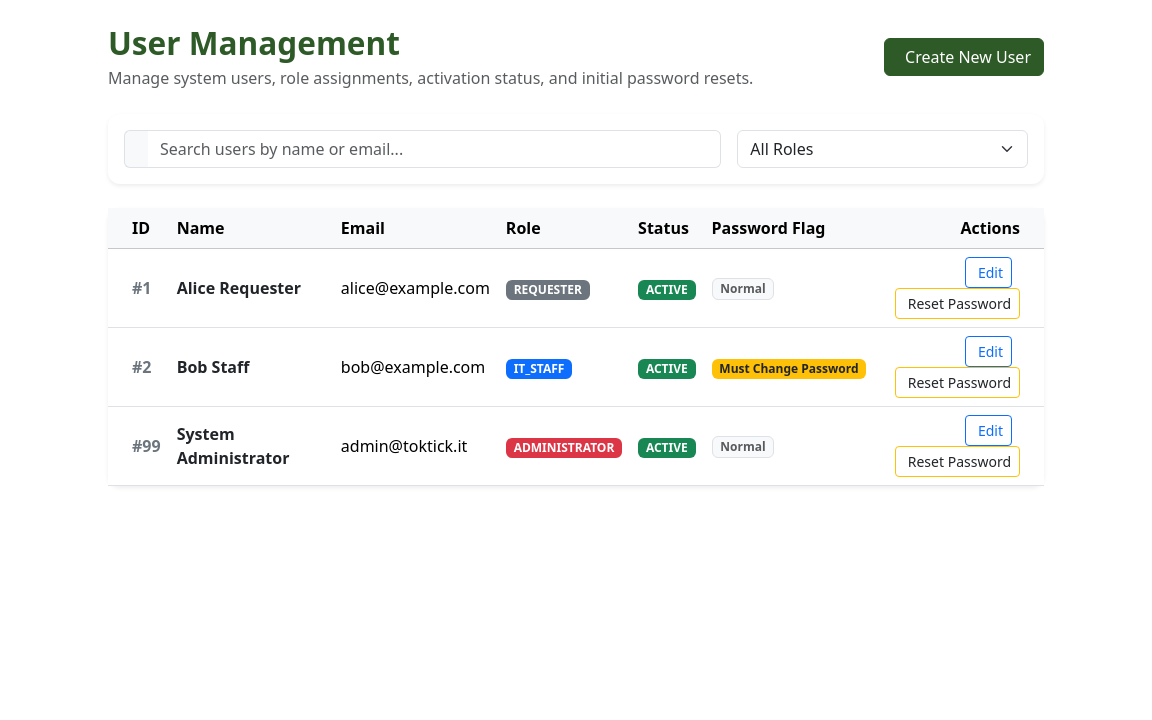
Test: UserManagement Component Suite (UserManagement.test.tsx) › opens Create User modal, submits valid new user payload, and refreshes directory
expect the table with test id "admin-user-table" is shown: met, box [108,208,1044,486]
Click the button with test id "create-user-btn" at (964, 57), box [884,38,1044,76]
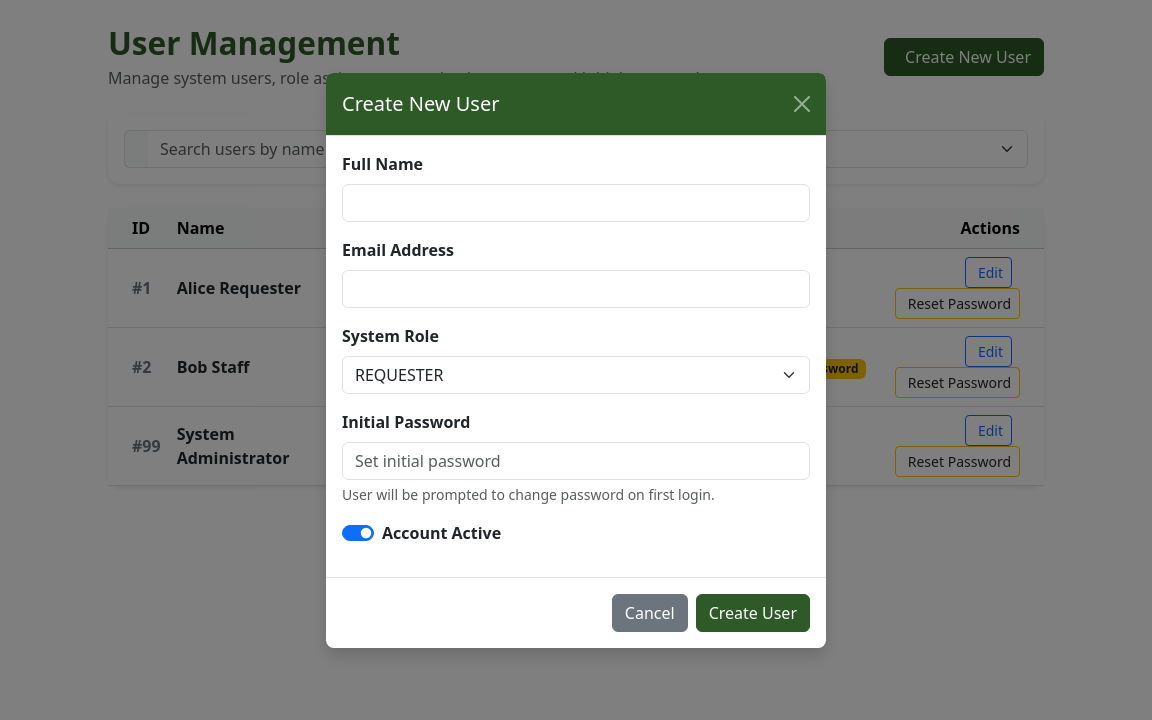
expect the element with test id "create-user-modal" is shown: met
Type "Charlie New" into the field with test id "user-form-name" at (576, 202), box [342,184,810,222]
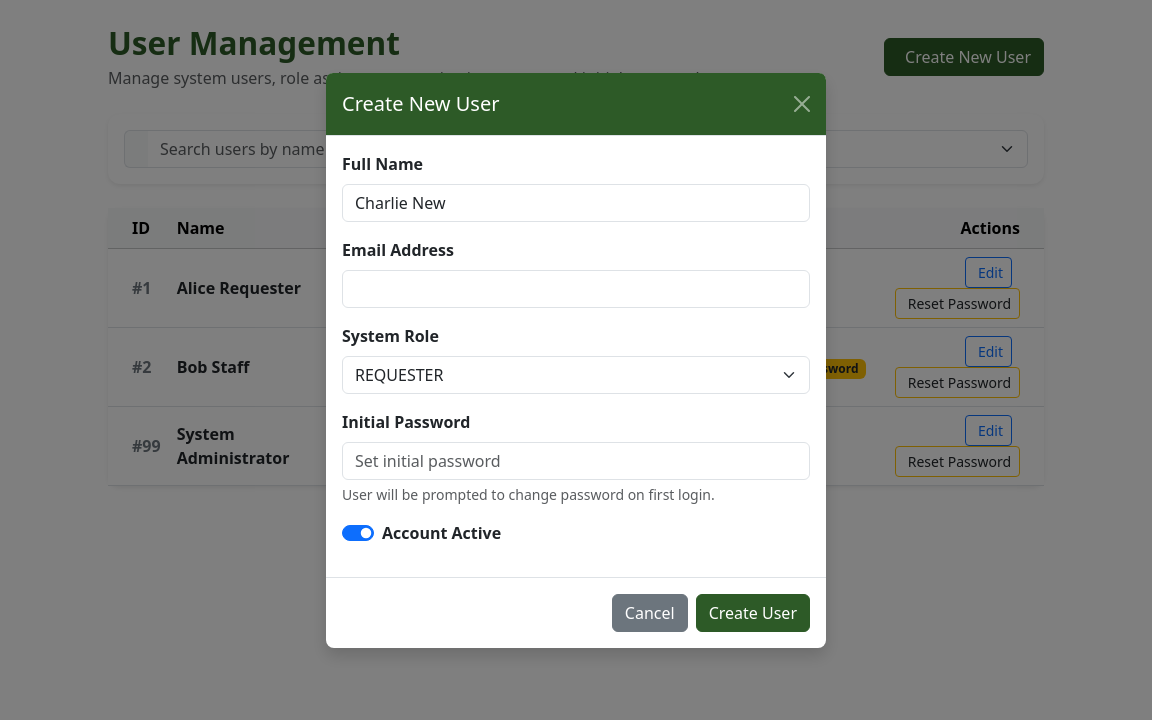
Type "charlie@example.com" into the field with test id "user-form-email" at (576, 288), box [342,270,810,308]
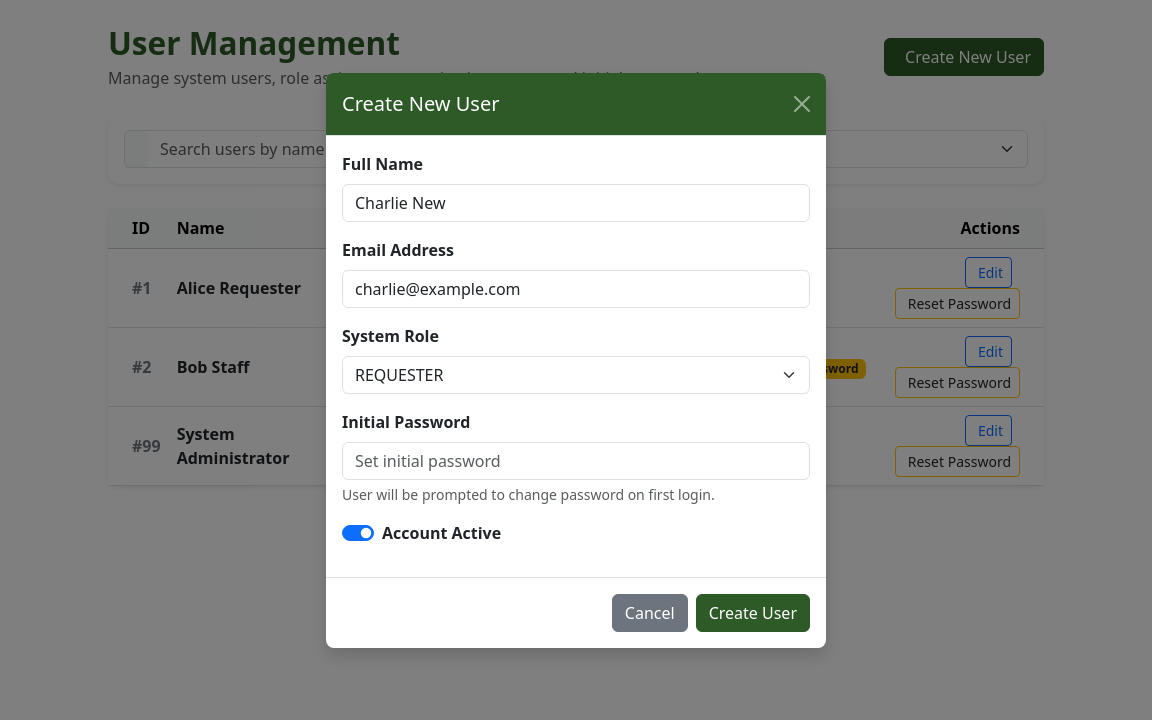
Select "IT_STAFF" in the dropdown with test id "user-form-role" at (576, 374), box [342,356,810,394]
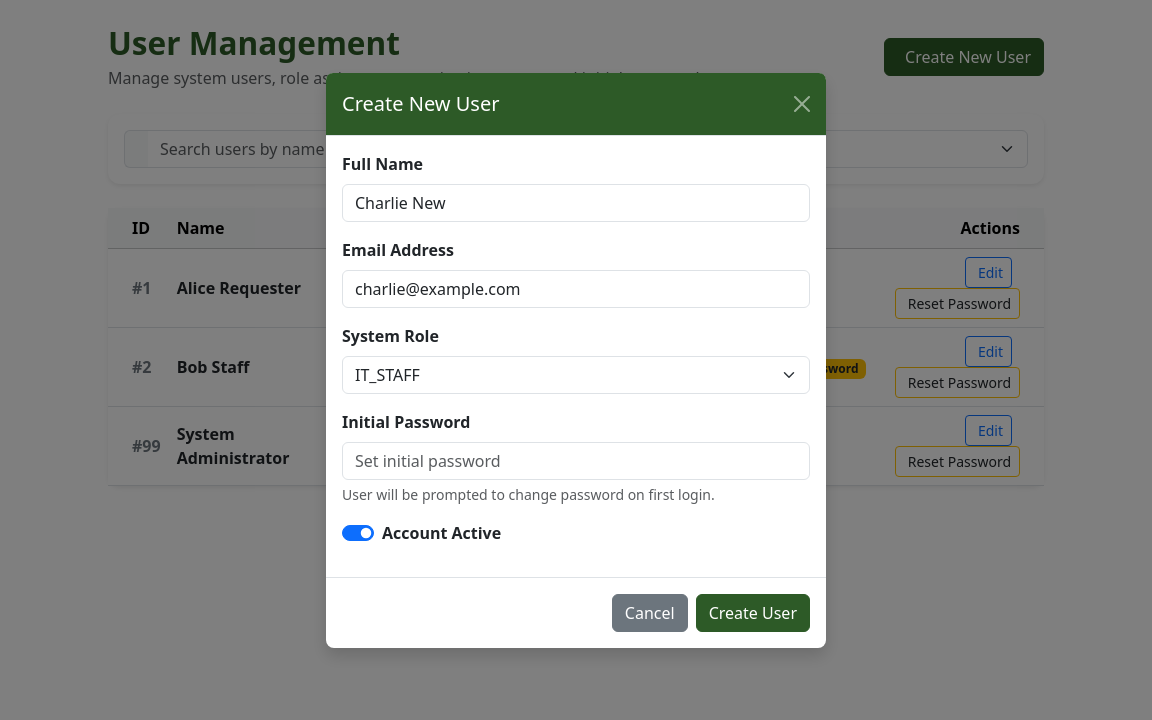
Type "SecretInitial123!" into the password field with test id "user-form-password" at (576, 460), box [342,442,810,480]
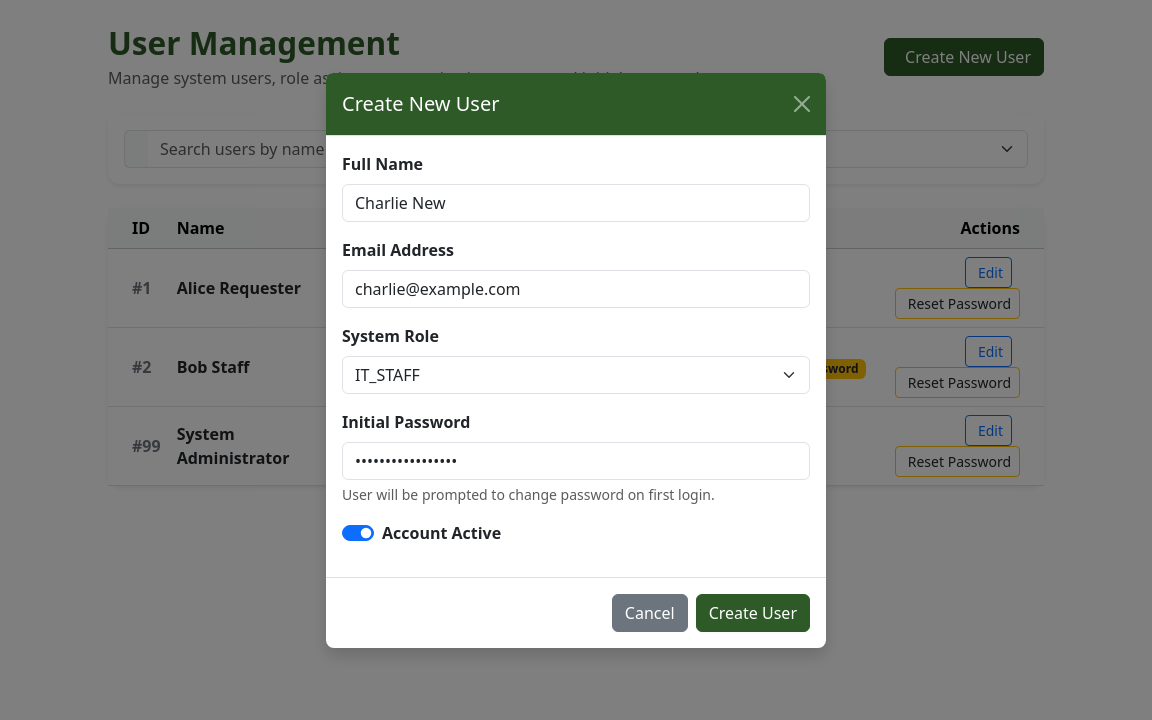
Click the button with test id "submit-user-btn" at (753, 612), box [696,594,810,632]
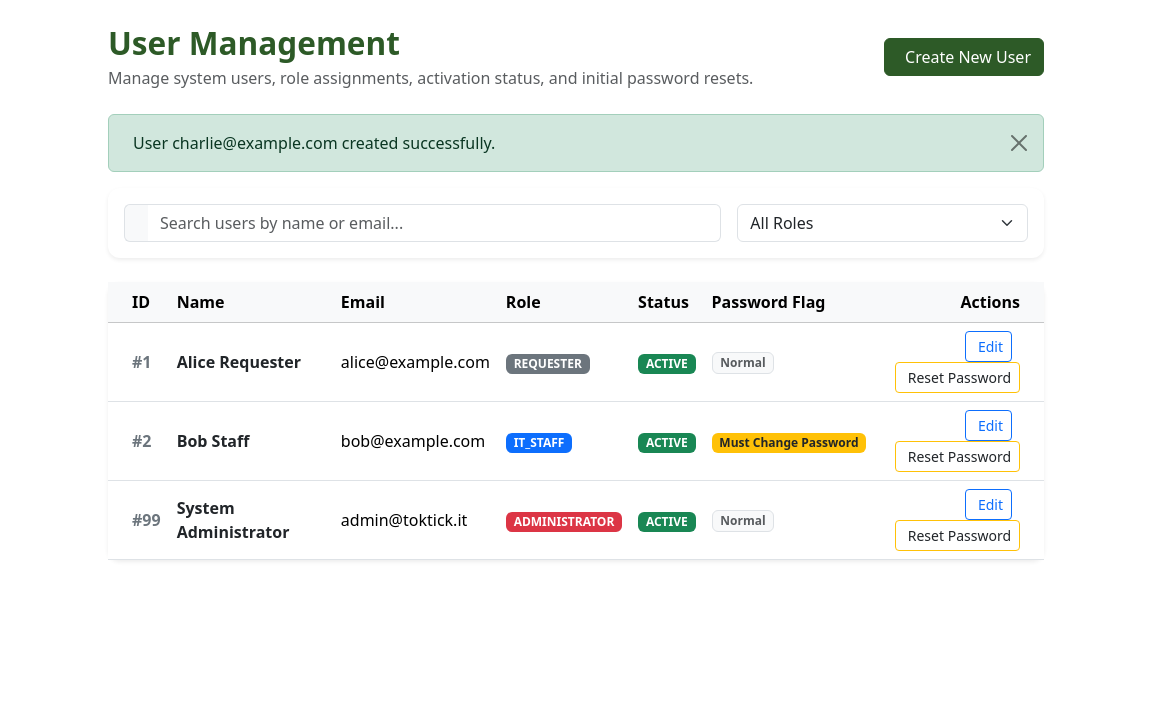
expect the message "User charlie@example.com created successfully." is shown: met, box [108,114,1044,172]
